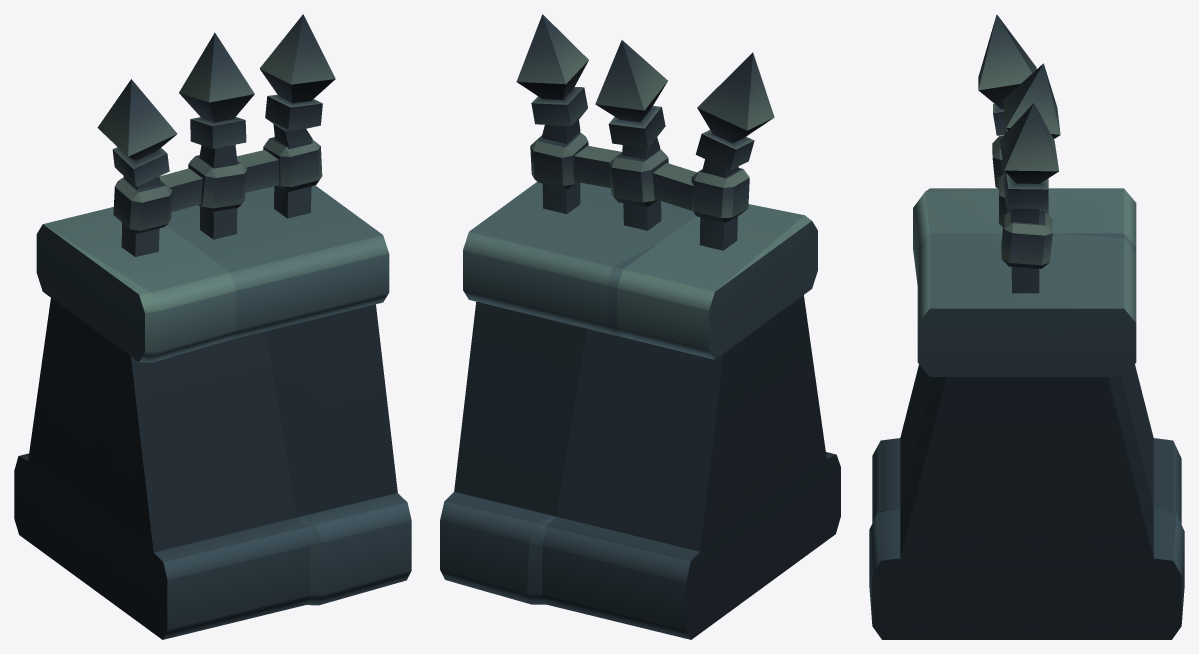
The model's file is wall_small_tile.fbx.
3 views of the same model, side by side, from view 1: azimuth 30°, elevation 25°; view 2: azimuth 150°, elevation 25°; view 3: azimuth 270°, elevation 25° (orthographic).
Parts seen in each view (by area): view 1: wall_small_tile; view 2: wall_small_tile; view 3: wall_small_tile.
Boxes of the visible parts, x1=… form: wall_small_tile: x1=14, y1=14, x2=411, y2=639; wall_small_tile: x1=440, y1=14, x2=840, y2=639; wall_small_tile: x1=869, y1=14, x2=1184, y2=639.
Size of the model in its own units: 100 by 204 by 111.
